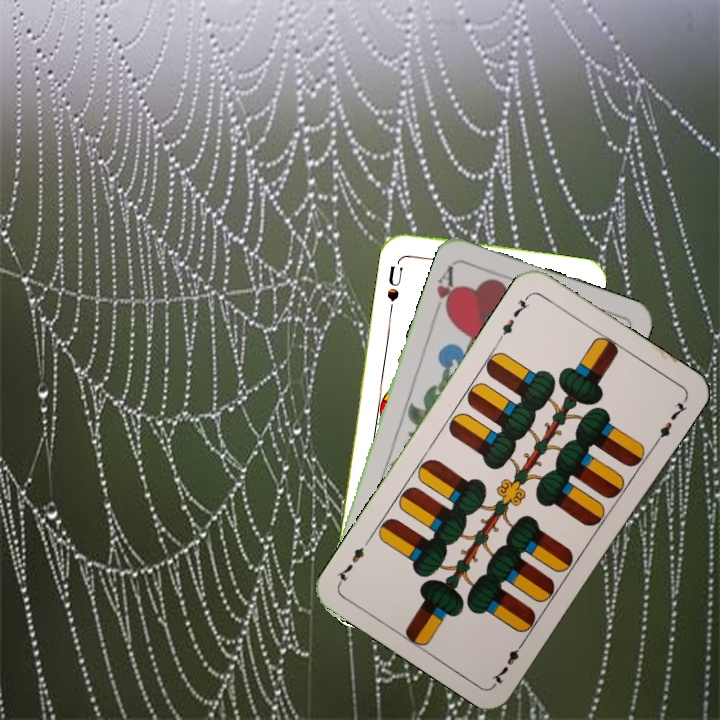E7: (487, 635, 528, 688), (494, 291, 533, 343)
HA: (432, 261, 460, 320)
SU: (382, 255, 406, 314)
